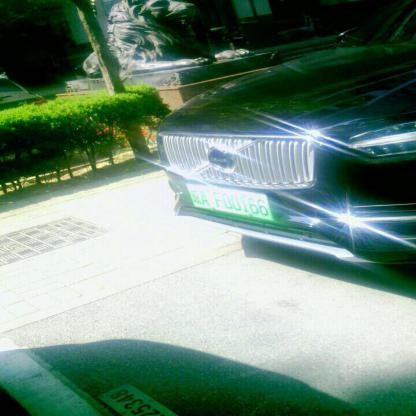lp: (186, 184, 273, 220)
